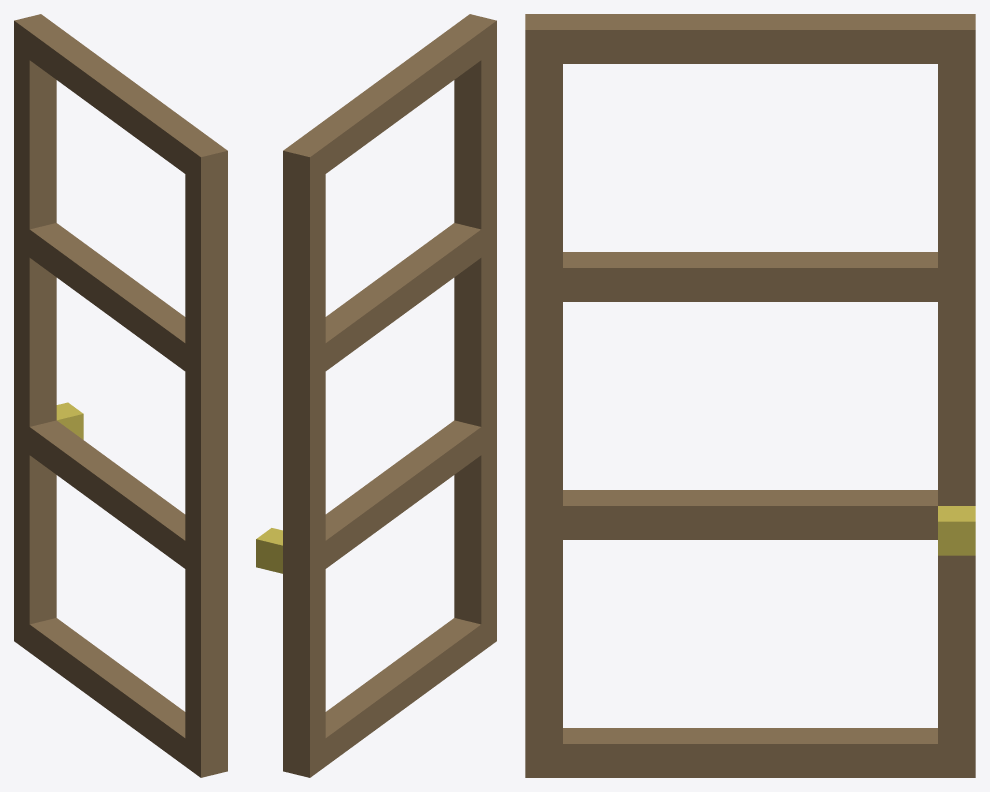
The model's file is Window00-SideA.gltf.
3 renders of one model, left to right at view 1: azimuth 30°, elevation 25°; view 2: azimuth 150°, elevation 25°; view 3: azimuth 270°, elevation 25°, orthographic. The views are drawn at different scales.
Bounding box in the file's own units: 2 × 22 × 12.
